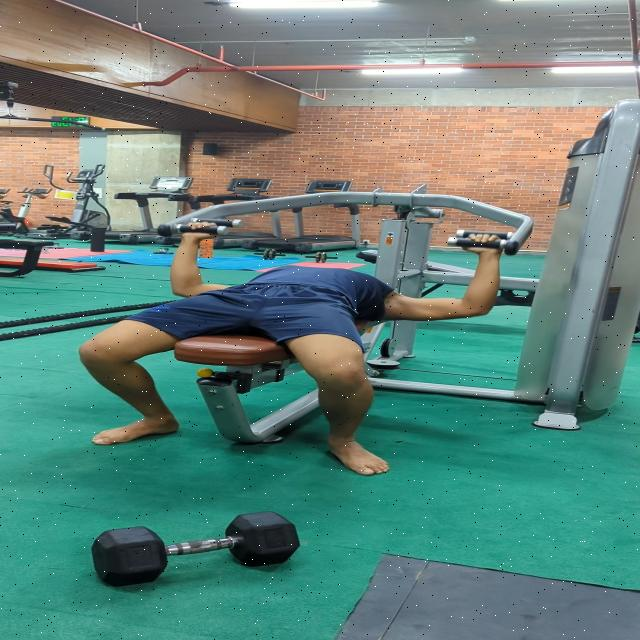Normal_BrenchPress: (32, 194, 530, 473)
